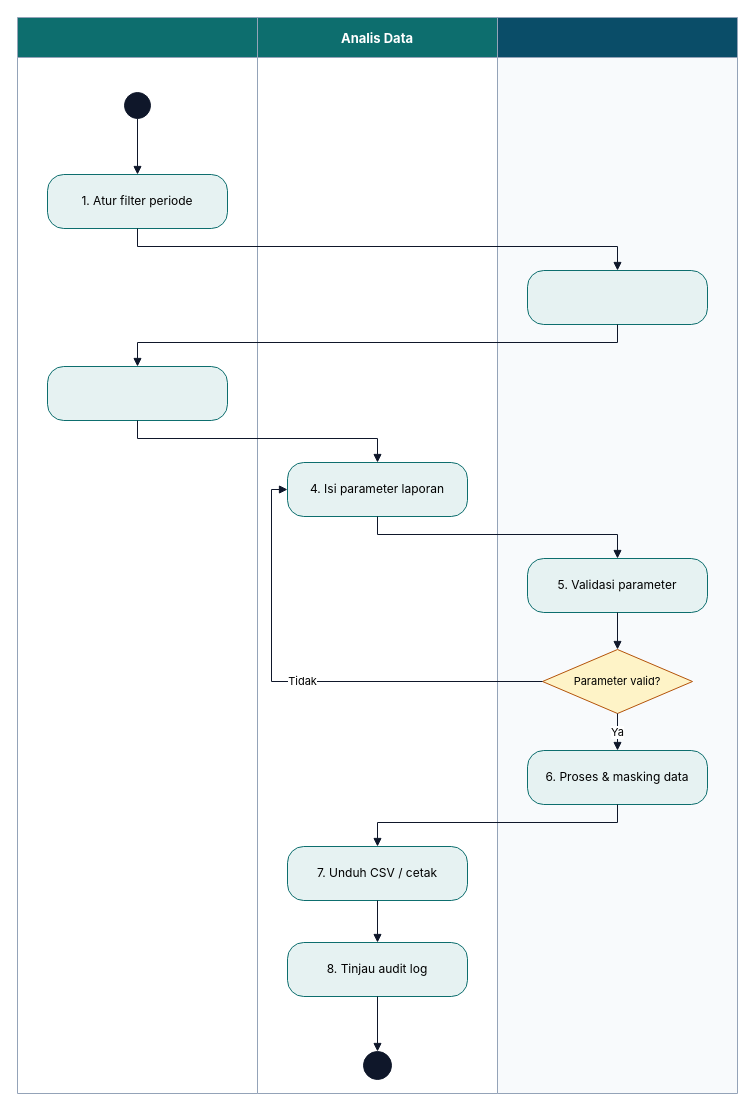
This 755x1111 diagram has some shape labels left out. The shapes that lost their labels are listed below. From the top down, each one's box as (x1, y1, x2, y2) in pixels, then its label:
(526, 270, 708, 324): 2. Hitung indikator
(46, 366, 228, 420): 3. Tinjau & cetak
(16, 16, 258, 1094): Eksekutif
(496, 16, 738, 1094): Sistem SIMRS
